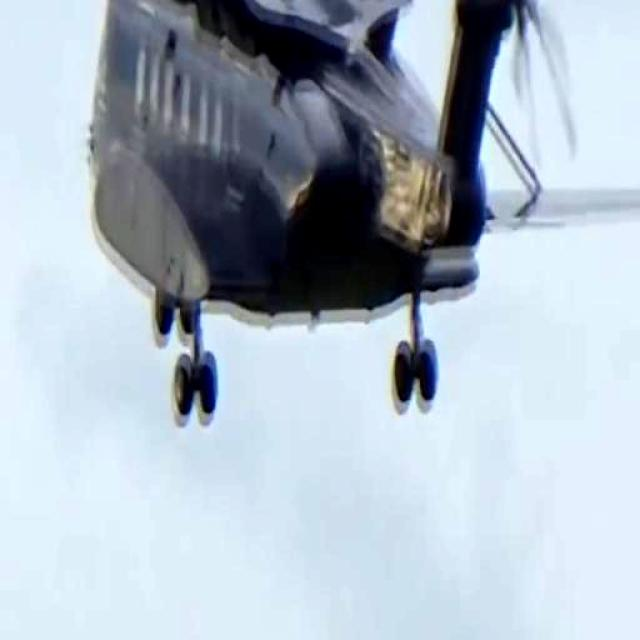drone: (0, 0, 640, 436)
